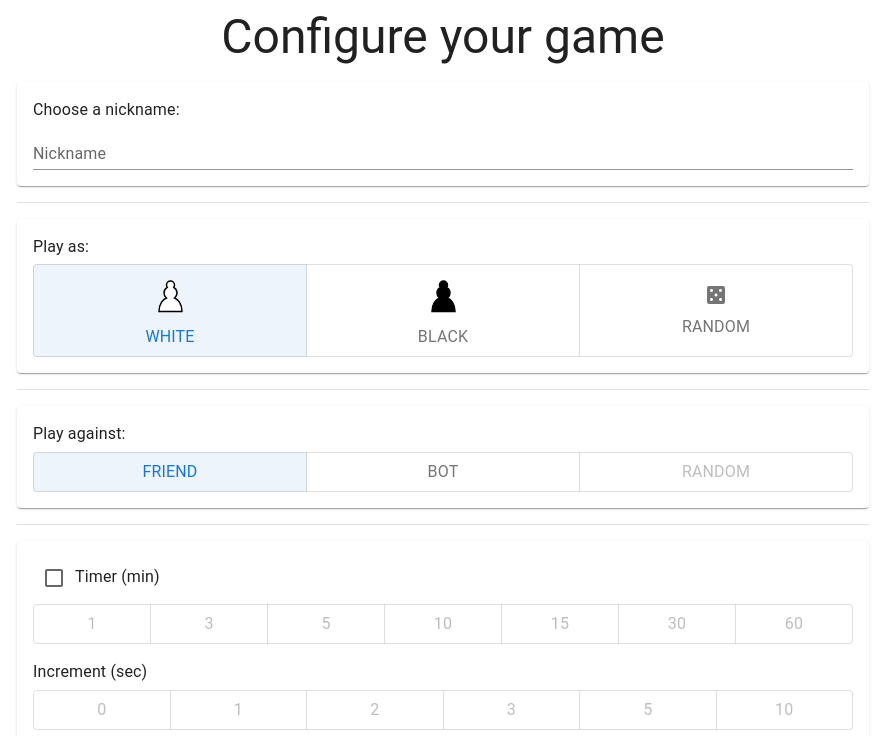
Scenario: NewGame page › bot opponent (Play against → Bot) › shows an accessible Elo slider when Bot is selected
Click the button "Bot" at (443, 472), box [306, 452, 580, 492]
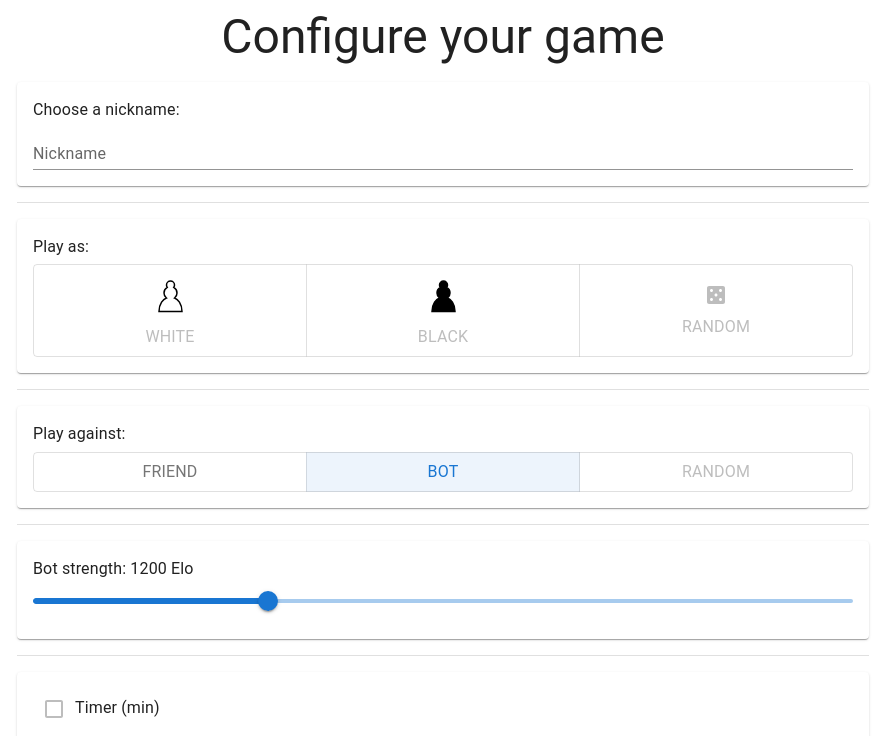
Now the slider labelled "Bot strength: 1200 Elo" is shown, box [258, 591, 278, 611]
Now the text "Bot strength: 1200 Elo" is shown, box [33, 559, 194, 578]
